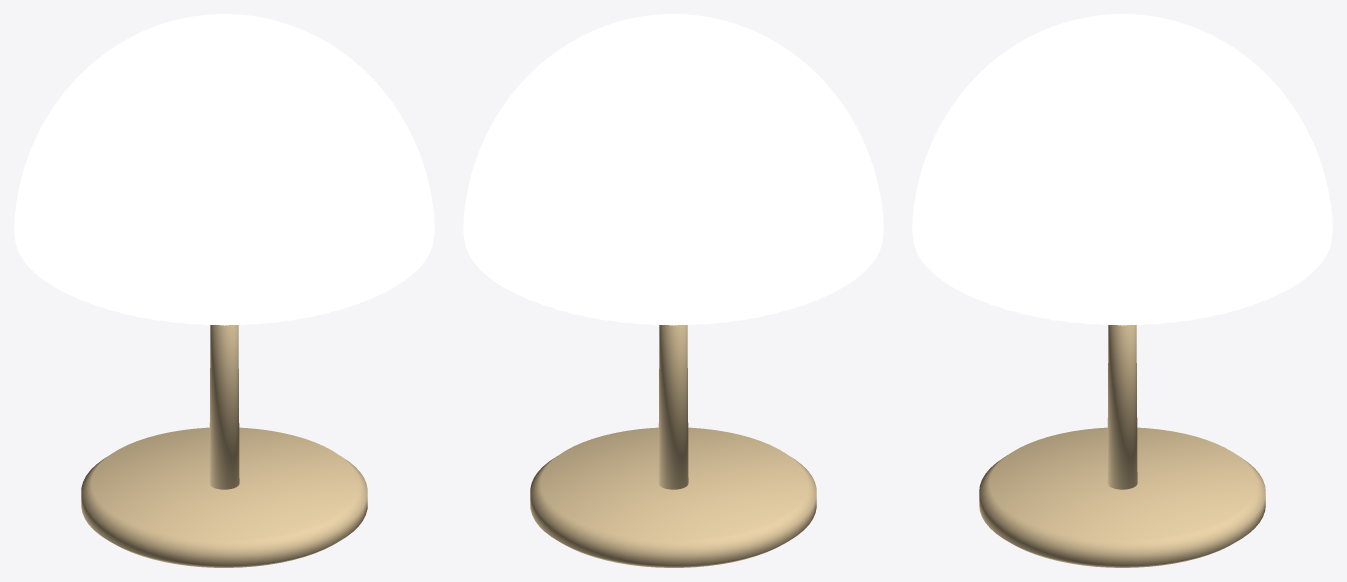
3 renders of one model, left to right at view 1: azimuth 30°, elevation 25°; view 2: azimuth 150°, elevation 25°; view 3: azimuth 270°, elevation 25°, orthographic.
Parts seen in each view (by area): view 1: table-lamp-02; view 2: table-lamp-02; view 3: table-lamp-02.
Boxes of the visible parts, x1,y1,x2,y2 form: table-lamp-02: [14, 14, 434, 567]; table-lamp-02: [463, 14, 883, 567]; table-lamp-02: [912, 14, 1332, 567].
Bounding box in the file's own units: 0.2788 × 0.35 × 0.2788.
